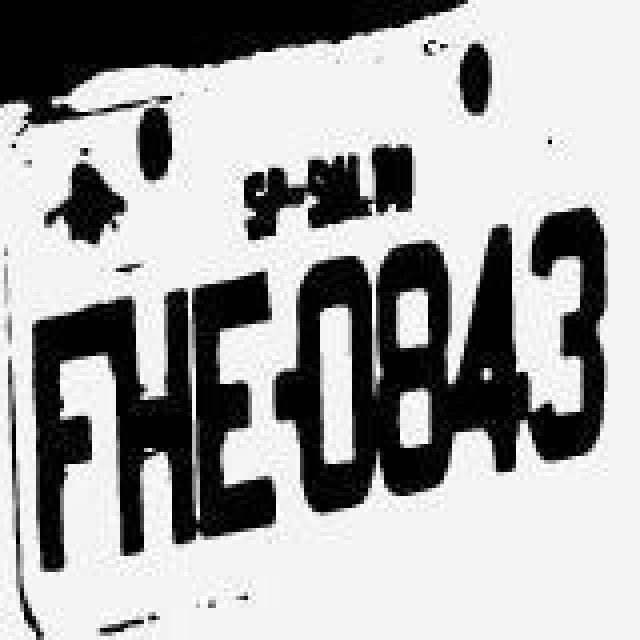3: (532, 204, 620, 468)
4: (452, 224, 532, 480)
8: (376, 240, 464, 496)
E: (192, 274, 288, 542)
F: (30, 308, 114, 572)
H: (106, 286, 198, 562)
O: (292, 256, 380, 512)
